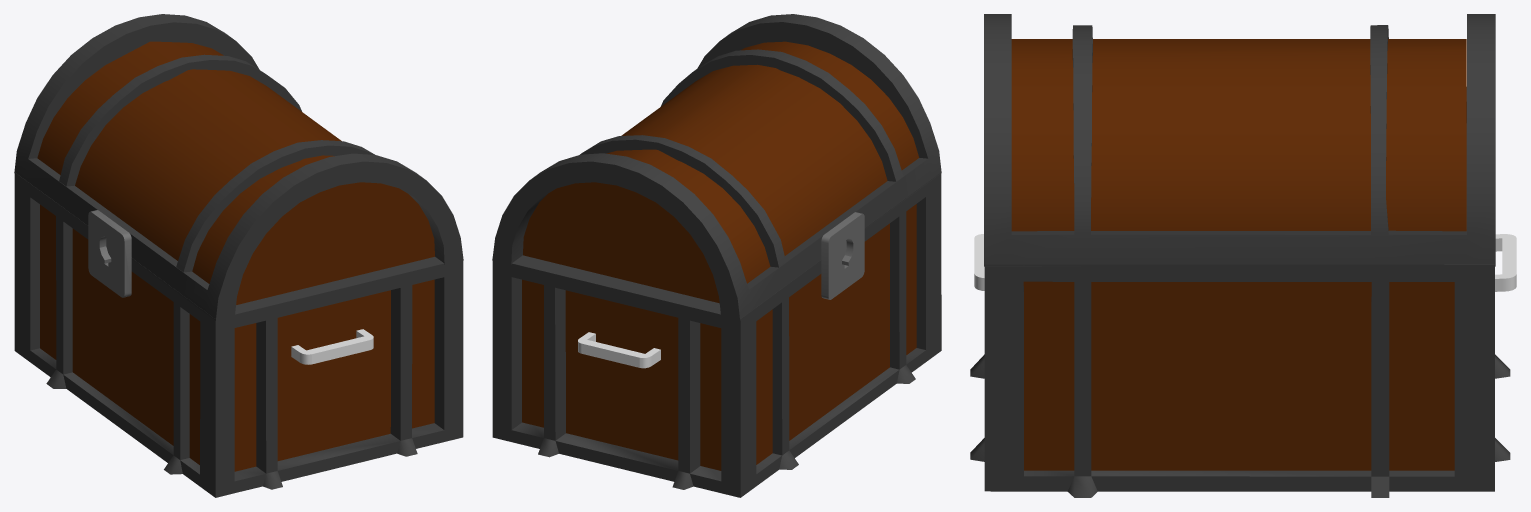
The model's file is jest.fbx.
3 views of the same model, side by side, from view 1: azimuth 30°, elevation 25°; view 2: azimuth 150°, elevation 25°; view 3: azimuth 270°, elevation 25° (orthographic). The views are drawn at different scales.
Visible parts, largest first — view 1: Cylinder, Cube.001, Cube, Cylinder.001, Cube.002, Cube.003; view 2: Cylinder, Cube.001, Cube, Cylinder.001, Cube.002, Cube.004; view 3: Cylinder, Cube, Cube.001, Cylinder.001, Cube.004.
Boxes of the visible parts, x1,y1,x2,y2 form: Cylinder: (37,41,434,304); Cube.001: (14,172,463,497); Cube: (40,204,434,471); Cylinder.001: (14,14,463,320); Cube.002: (88,210,131,297); Cube.003: (291,329,373,364); Cylinder: (523,41,919,303); Cube.001: (492,172,941,497); Cube: (522,204,916,470); Cylinder.001: (492,14,941,320); Cube.002: (821,212,864,299); Cube.004: (578,332,660,368); Cylinder: (1011,39,1466,231); Cube: (1023,281,1454,470); Cube.001: (970,123,1510,497); Cylinder.001: (984,14,1495,266); Cube.004: (1495,234,1516,291).
Size of the model in its own units: 238 by 257 by 330.
